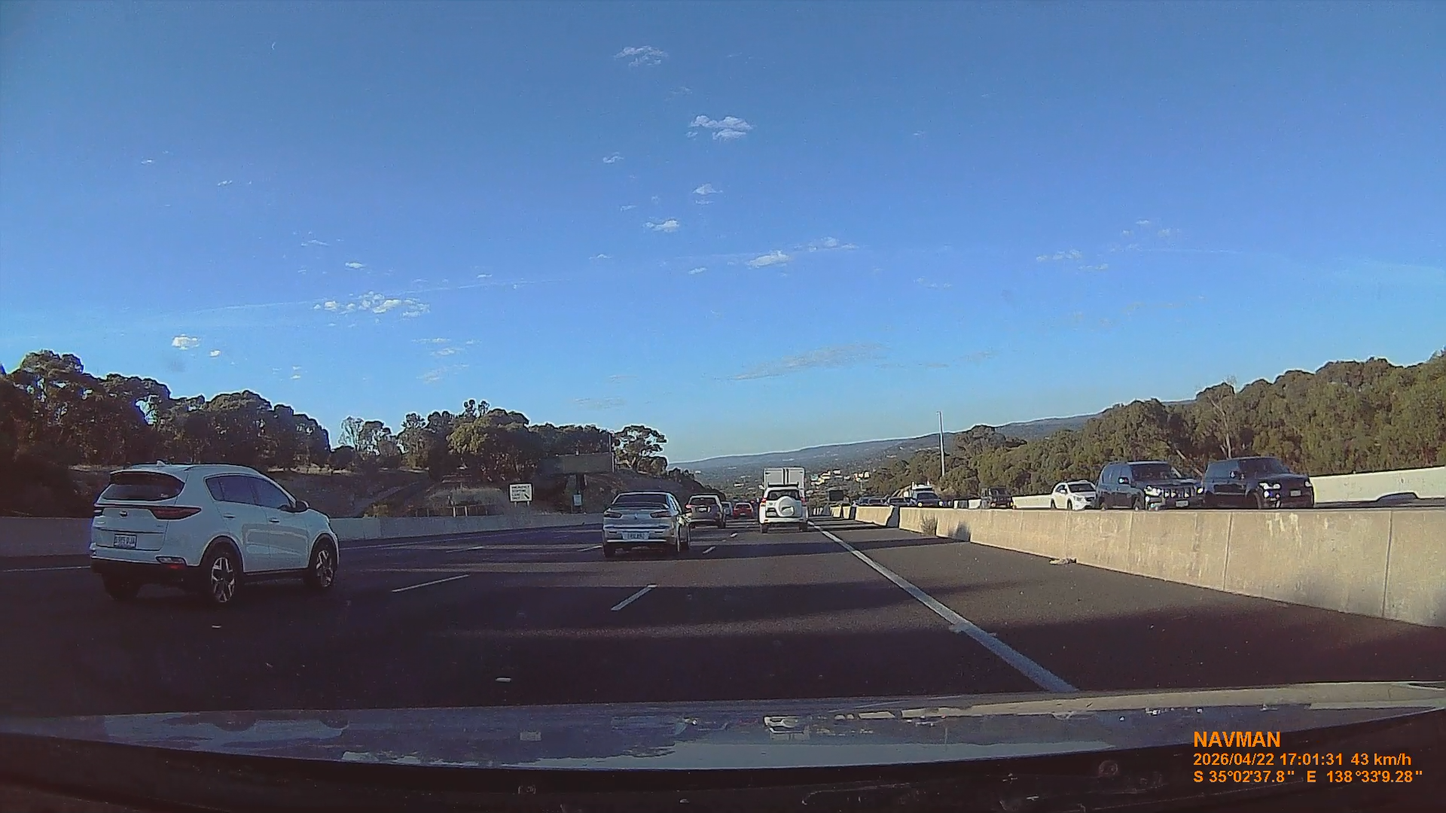road barriers: (868, 502, 1443, 623)
